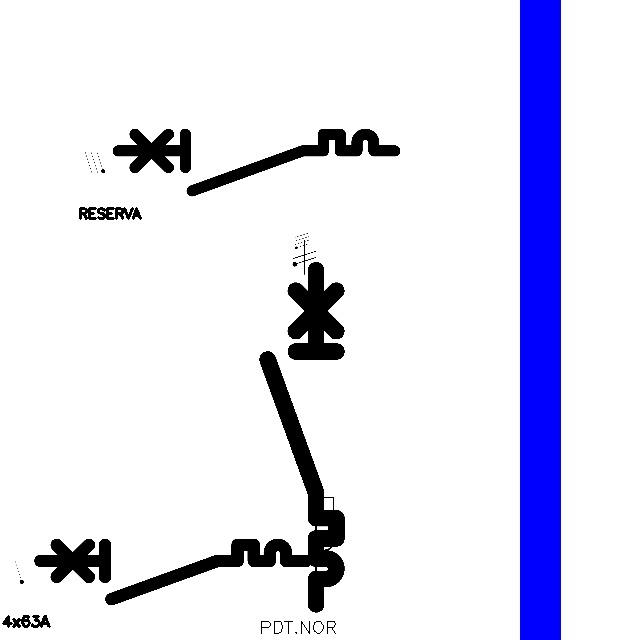interruptor_termomagnetico: (259, 261, 345, 613), (267, 274, 341, 579), (110, 127, 401, 198), (33, 538, 312, 606)
